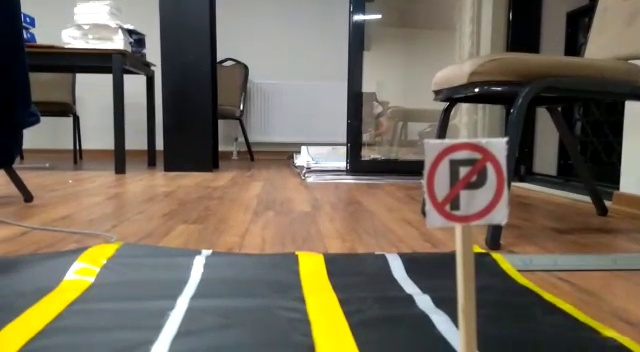park_yapilmaz: (420, 139, 508, 225)
